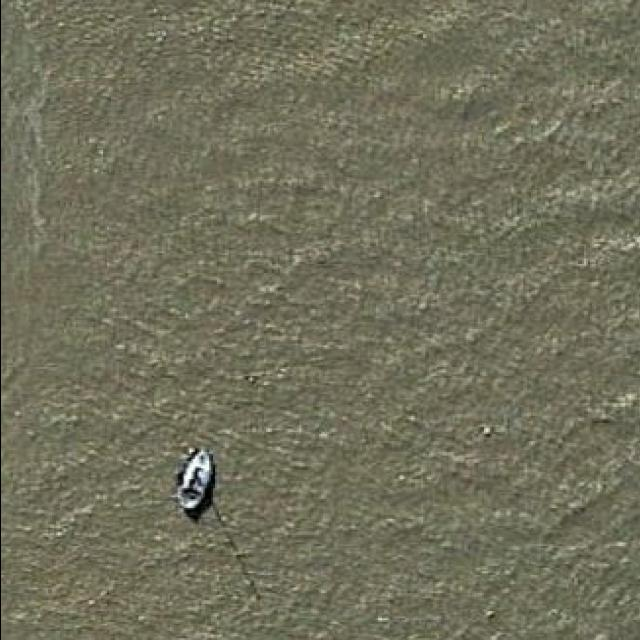ship: (173, 444, 218, 512)
